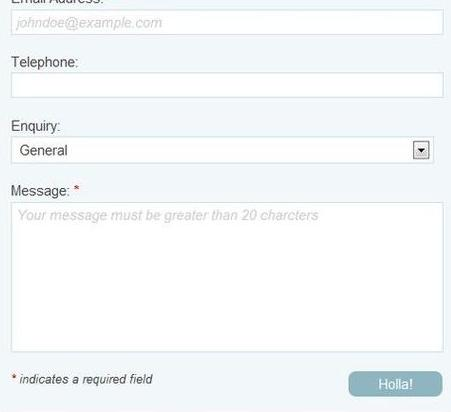button: (348, 370, 443, 397)
field: (9, 199, 442, 354), (12, 135, 433, 166), (11, 70, 445, 100), (11, 7, 445, 36)
field_with_label: (5, 183, 446, 356), (10, 118, 436, 168), (9, 54, 449, 101)
